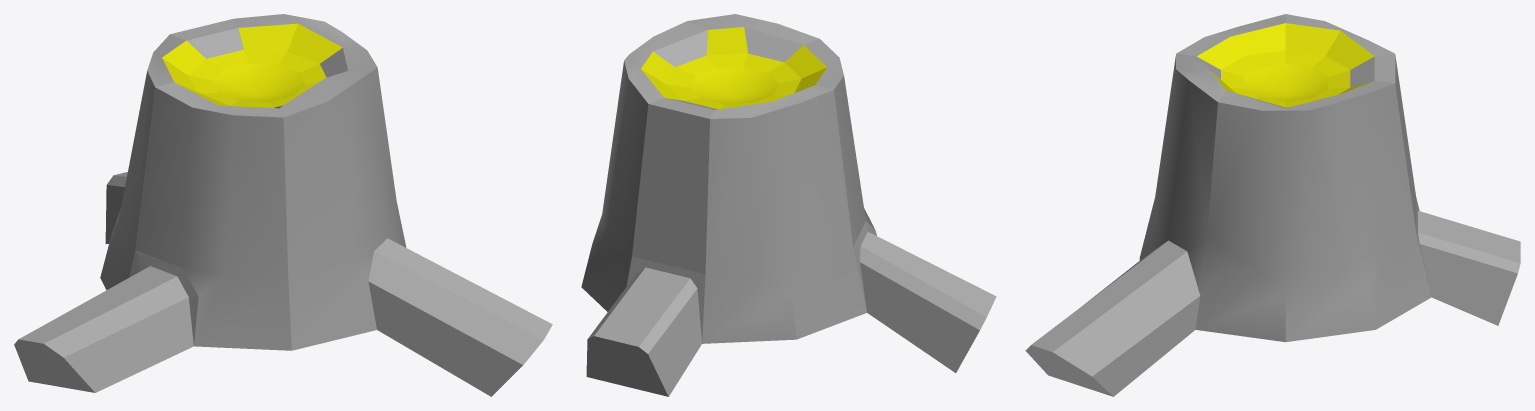
Rendered from Stump1.fbx.
3 renders of one model, left to right at view 1: azimuth 30°, elevation 25°; view 2: azimuth 150°, elevation 25°; view 3: azimuth 270°, elevation 25°, orthographic. The views are drawn at different scales.
Parts seen in each view (by area): view 1: Stump1; view 2: Stump1; view 3: Stump1.
Boxes of the visible parts, <box> form: Stump1: <box>14,14,552,396</box>; Stump1: <box>581,14,996,396</box>; Stump1: <box>1025,14,1520,396</box>.
Size of the model in its own units: 4.19 by 2.55 by 4.3.
